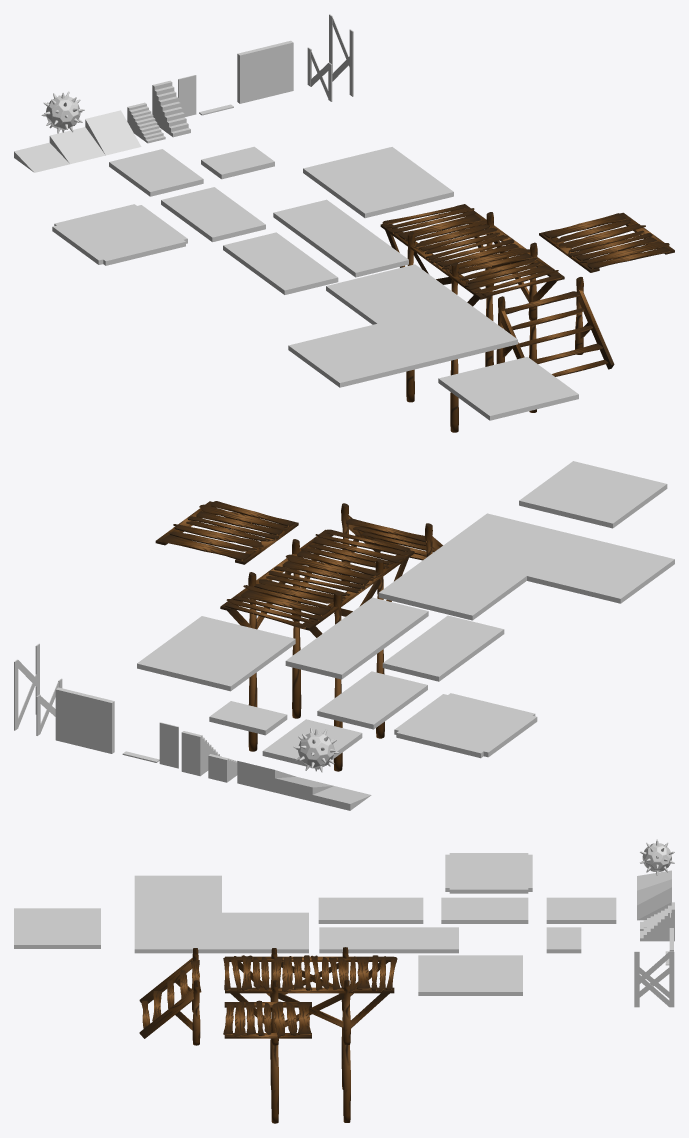
The model's file is ScaleRefMeshlib.glb.
The picture shows the model from 3 angles, top to bottom: view 1: azimuth 30°, elevation 25°; view 2: azimuth 150°, elevation 25°; view 3: azimuth 270°, elevation 25°; orthographic projection. The views are drawn at different scales.
Parts seen in each view (by area): view 1: 5x5Corner, 5x10Plane, 5x6Plane, 5x5Plane, BasicLivingRoomScaleRef.001, 3x8Plane, 5x10Plane.002, 3x6Plane, 5x10Bridge.002, 3x5Plane, 3mWallScaleRef, 3x4Plane (+10 smaller); view 2: 5x5Corner, 5x10Plane, 5x6Plane, 5x5Plane, BasicLivingRoomScaleRef.001, 3x8Plane, 5x10Plane.002, 3x6Plane, 3x5Plane, 3mWallScaleRef, 5x10Bridge.002, 3x4Plane (+10 smaller); view 3: 5x5Corner, 5x10Plane, 5x6Plane, 3x8Plane, BasicLivingRoomScaleRef.001, 5x5Plane, 3x6Plane, 5x10Plane.002, 5x10Bridge.002, 3x5Plane, 3x4Plane, Scaffolding3.5m-h-ScaleRef (+4 smaller).
Part boxes in pixels (<box>): 5x5Corner: <box>288,264,517,387</box>; 5x10Plane: <box>380,204,564,432</box>; 5x6Plane: <box>303,147,453,218</box>; 5x5Plane: <box>438,357,578,420</box>; BasicLivingRoomScaleRef.001: <box>52,204,187,265</box>; 3x8Plane: <box>273,199,408,277</box>; 5x10Plane.002: <box>539,212,674,272</box>; 3x6Plane: <box>223,232,338,294</box>; 5x10Bridge.002: <box>496,277,614,376</box>; 3x5Plane: <box>161,187,265,242</box>; 3mWallScaleRef: <box>237,40,293,103</box>; 3x4Plane: <box>109,149,203,196</box>; 5x5Corner: <box>378,513,674,620</box>; 5x10Plane: <box>220,529,414,771</box>; 5x6Plane: <box>137,616,295,691</box>; 5x5Plane: <box>519,461,667,528</box>; BasicLivingRoomScaleRef.001: <box>394,693,537,758</box>; 3x8Plane: <box>285,597,428,679</box>; 5x10Plane.002: <box>155,501,298,564</box>; 3x6Plane: <box>382,615,504,681</box>; 3x5Plane: <box>317,671,427,729</box>; 3mWallScaleRef: <box>55,687,114,753</box>; 5x10Bridge.002: <box>341,503,442,585</box>; 3x4Plane: <box>262,719,362,769</box>; 5x5Corner: <box>134,875,308,953</box>; 5x10Plane: <box>223,947,397,1123</box>; 5x6Plane: <box>418,955,522,995</box>; 3x8Plane: <box>319,927,458,953</box>; BasicLivingRoomScaleRef.001: <box>445,853,532,893</box>; 5x5Plane: <box>14,908,100,948</box>; 3x6Plane: <box>318,897,423,923</box>; 5x10Plane.002: <box>223,1000,311,1038</box>; 5x10Bridge.002: <box>139,948,201,1045</box>; 3x5Plane: <box>441,897,528,923</box>; 3x4Plane: <box>546,897,616,923</box>; Scaffolding3.5m-h-ScaleRef: <box>634,951,674,1007</box>.
Bounding box in the file's own units: 25.01 × 11.62 × 37.92.
Materials: 1 (1 with a texture image).
